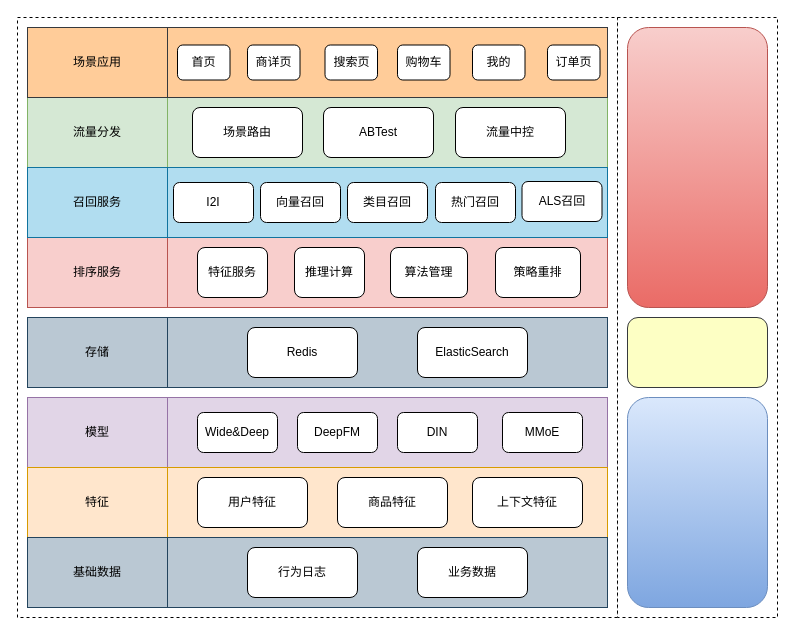
The diagram is 795 pixels wide and 635 high, and some of its shapes have lost their labels. The centre of each missing label's shape, as x and y in pixels:
"模型和特征存储" belongs at (697,352).
"离线计算 DolphinScheduler Spark Hive Tensorflow PyTorch" belongs at (697,502).
"线上服务 运营工具 Spring Boot" belongs at (697,167).
